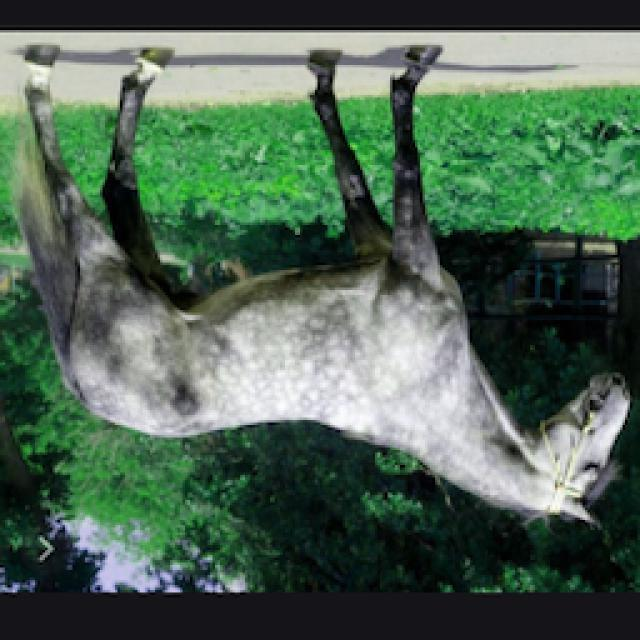Horse: (2, 42, 638, 538)
